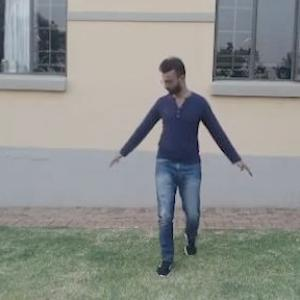land: (84, 43, 256, 264)
